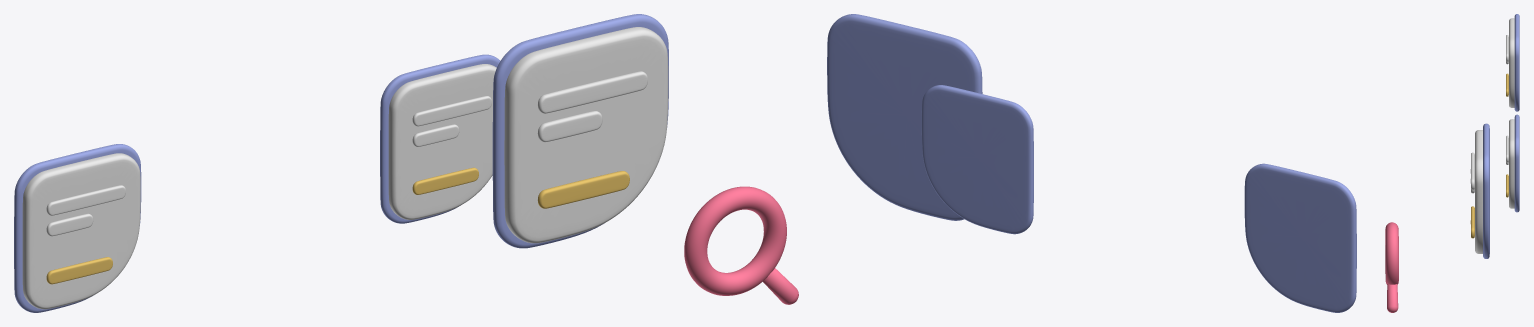
The model's file is searching-file-animated-3d-icon-200442520120.glb.
The picture shows the model from 3 angles, left to right: view 1: azimuth 30°, elevation 25°; view 2: azimuth 150°, elevation 25°; view 3: azimuth 270°, elevation 25°; orthographic projection. The views are drawn at different scales.
Parts seen in each view (by area): view 1: Plane.001, Plane.009, Plane.002, Torus.002, Plane.005, Plane.003, Plane.012, Plane.008, Plane.006, Plane.010, Plane.004, Plane.007 (+2 smaller); view 2: Plane.005, Plane.012, Plane.008; view 3: Plane.001, Plane.005, Torus.002, Plane.008, Plane.012, Plane.002, Plane.009, Cylinder.005, Plane.003, Plane.004.
Part boxes in pixels (<box>): Plane.001: <box>504,27,668,243</box>; Plane.009: <box>22,153,140,309</box>; Plane.002: <box>388,64,496,219</box>; Torus.002: <box>684,186,786,295</box>; Plane.005: <box>492,14,668,248</box>; Plane.003: <box>537,71,647,142</box>; Plane.012: <box>14,144,141,312</box>; Plane.008: <box>380,54,500,223</box>; Plane.006: <box>412,96,491,146</box>; Plane.010: <box>46,185,125,236</box>; Plane.004: <box>537,171,629,208</box>; Plane.007: <box>412,167,478,194</box>; Plane.005: <box>827,14,982,220</box>; Plane.012: <box>1244,163,1356,312</box>; Plane.008: <box>921,85,1033,234</box>; Plane.001: <box>1475,130,1482,253</box>; Plane.005: <box>1483,123,1489,258</box>; Torus.002: <box>1385,222,1398,284</box>; Plane.008: <box>1514,114,1519,212</box>; Plane.012: <box>1514,14,1519,111</box>; Plane.002: <box>1509,119,1514,208</box>; Plane.009: <box>1509,18,1514,107</box>; Cylinder.005: <box>1387,284,1398,312</box>; Plane.003: <box>1470,152,1474,193</box>; Plane.004: <box>1470,206,1474,238</box>.
Bounding box in the file's own units: 7.4 × 2.58 × 2.27.
